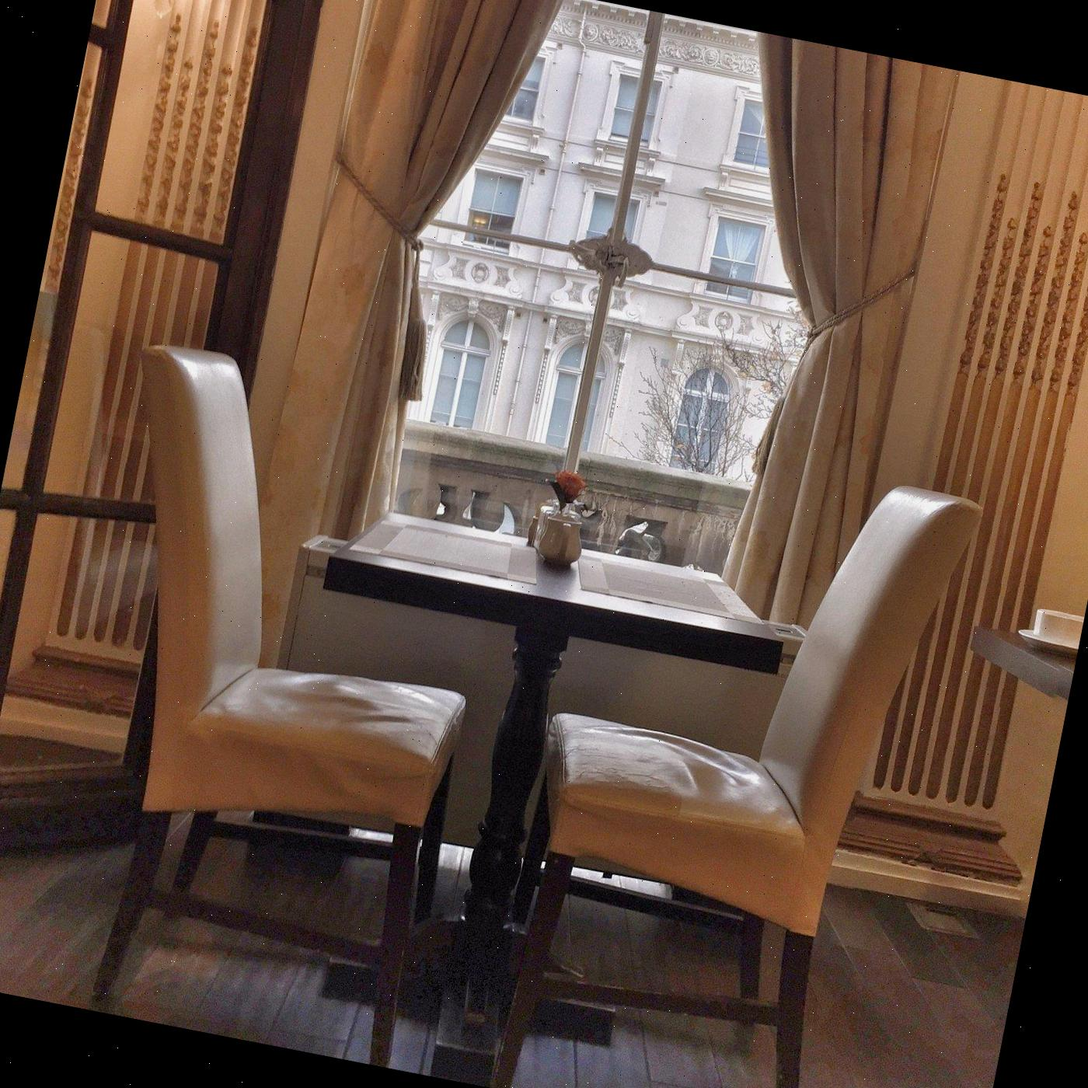chair: (28, 324, 530, 1070), (487, 427, 975, 1088)
organized table: (34, 251, 997, 1088)
